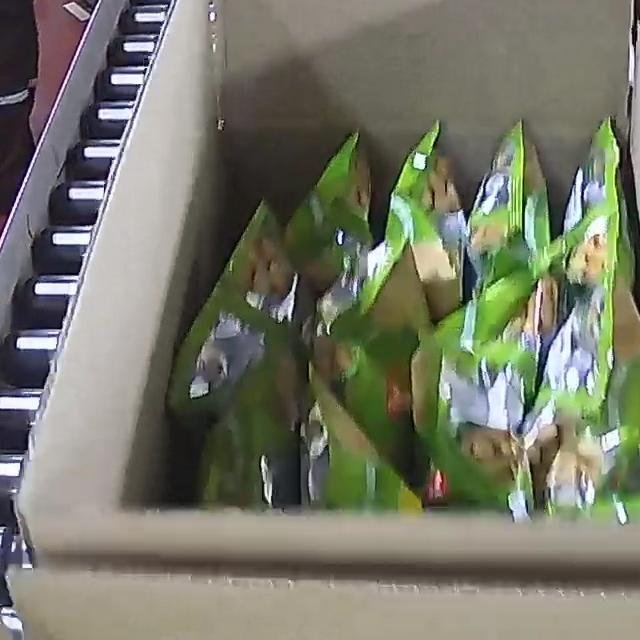yogurt: (163, 112, 640, 522)
